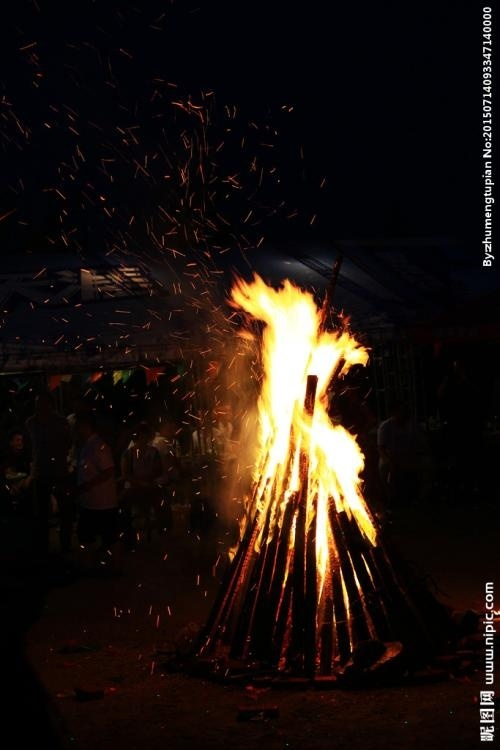fire: (229, 267, 375, 571)
